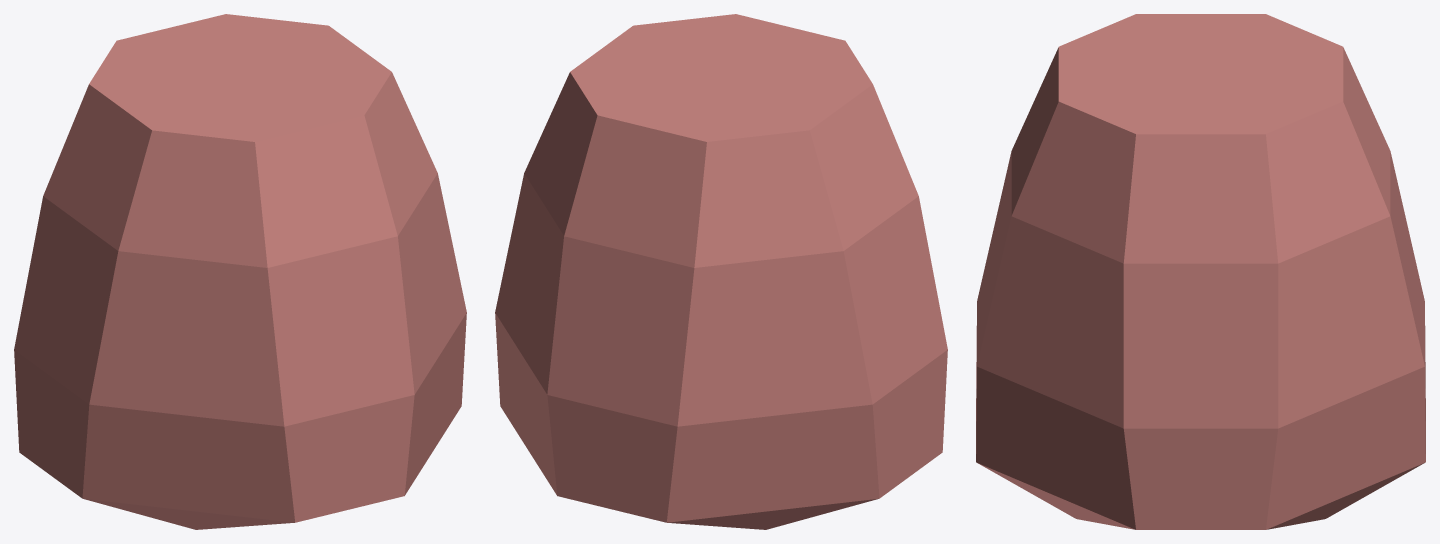
The model's file is pepperSeeds.obj.
3 renders of one model, left to right at view 1: azimuth 30°, elevation 25°; view 2: azimuth 150°, elevation 25°; view 3: azimuth 270°, elevation 25°, orthographic. The views are drawn at different scales.
Parts seen in each view (by area): view 1: paprika.002; view 2: paprika.002; view 3: paprika.002.
Boxes of the visible parts, x1,y1,x2,y2 form: paprika.002: (14, 14, 466, 529); paprika.002: (495, 14, 947, 529); paprika.002: (976, 14, 1425, 529).
Bounding box in the file's own units: 0.0254 × 0.0244 × 0.0254.
